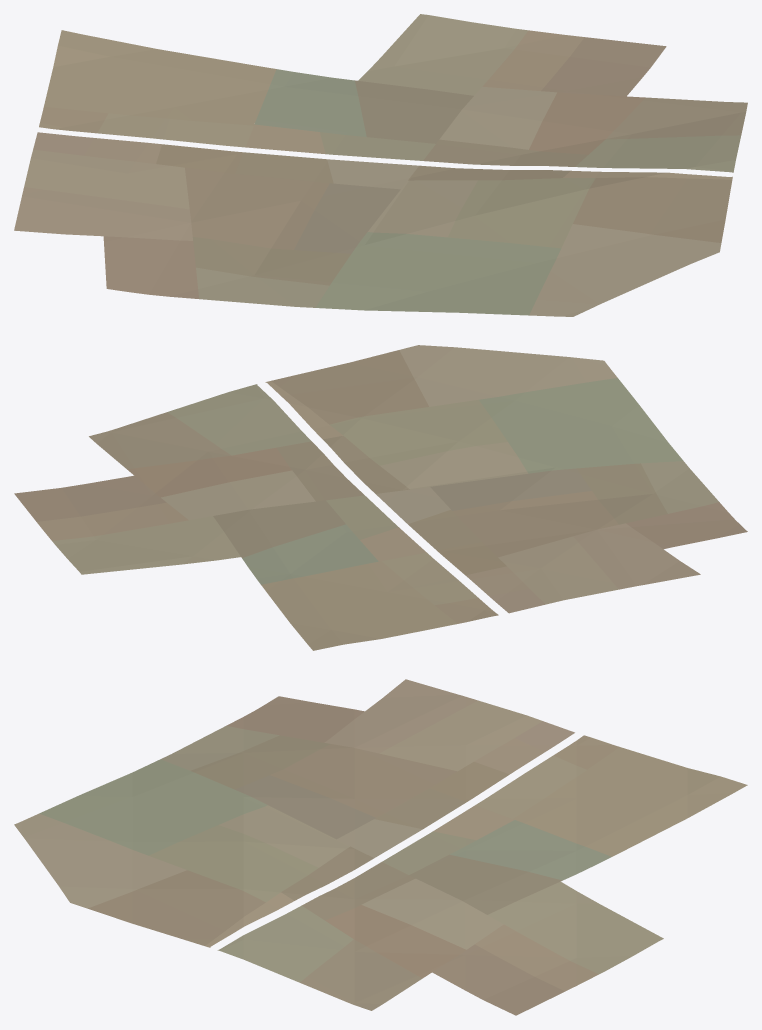
File: farm_-33_-26_soil.glb
The picture shows the model from 3 angles, top to bottom: view 1: azimuth 30°, elevation 25°; view 2: azimuth 150°, elevation 25°; view 3: azimuth 270°, elevation 25°; orthographic projection. The views are drawn at different scales.
Visible parts, largest first — view 1: geometry_0; view 2: geometry_0; view 3: geometry_0.
Boxes of the visible parts, x1=… form: geometry_0: x1=14, y1=14, x2=747, y2=316; geometry_0: x1=14, y1=345, x2=747, y2=650; geometry_0: x1=14, y1=679, x2=747, y2=1015.
Size of the model in its own units: 520 by 25.91 by 529.
